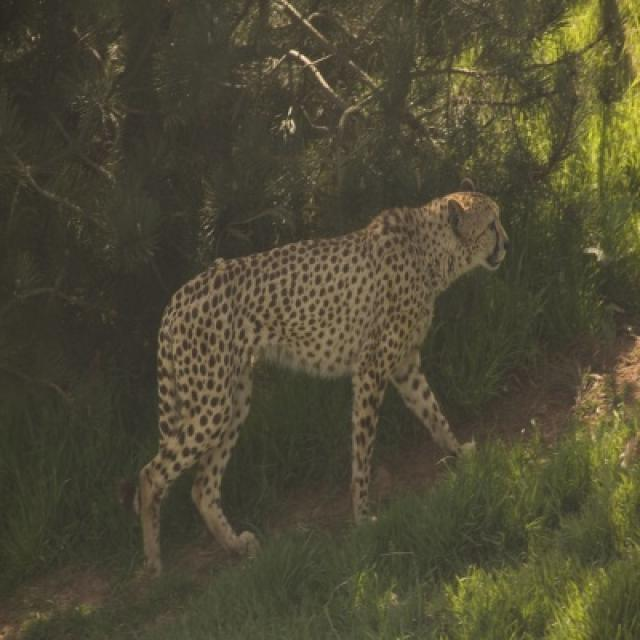Cheetah: (133, 190, 510, 578)
